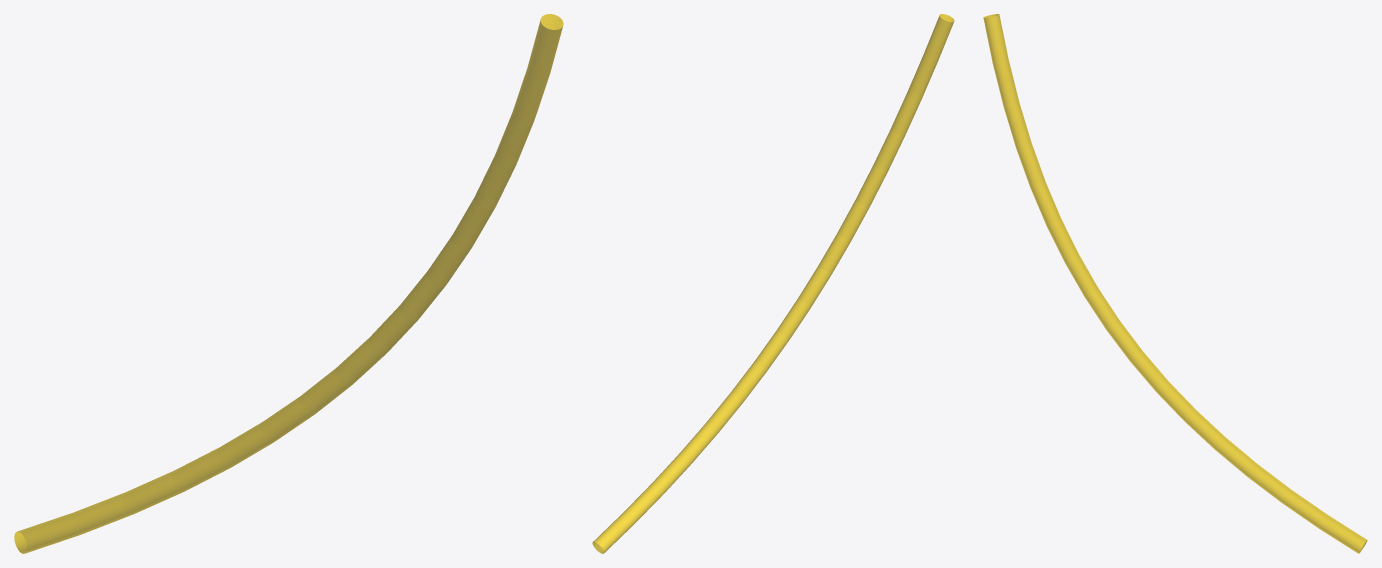
The model's file is Event_15818458_track_6.fbx.
The picture shows the model from 3 angles, left to right: view 1: azimuth 90°, elevation 25°; view 2: azimuth 150°, elevation 25°; view 3: azimuth 270°, elevation 25°; orthographic projection. The views are drawn at different scales.
Visible parts, largest first — view 1: Model; view 2: Model; view 3: Model.
Boxes of the visible parts, x1=… form: Model: x1=14, y1=14, x2=563, y2=553; Model: x1=592, y1=14, x2=954, y2=553; Model: x1=983, y1=14, x2=1367, y2=553.
Bounding box in the file's own units: 0.5184 × 1.23 × 0.9355.
